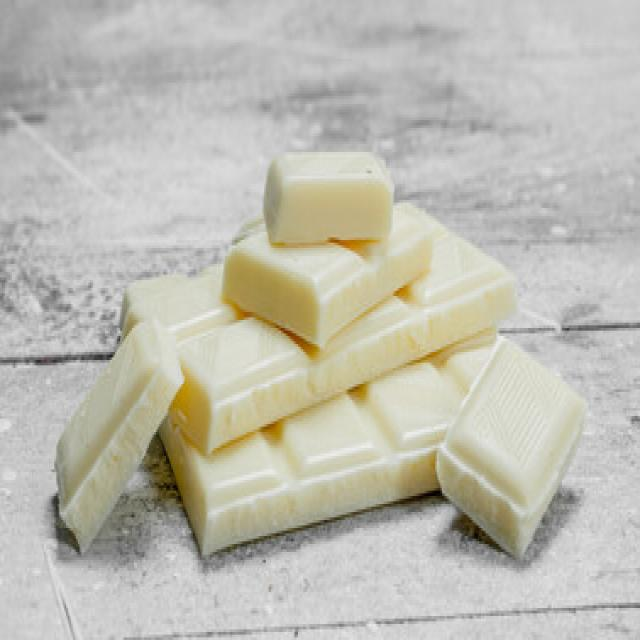chocolate: (132, 207, 516, 552), (436, 337, 587, 563), (52, 317, 184, 560), (230, 204, 430, 350), (261, 149, 395, 253)
